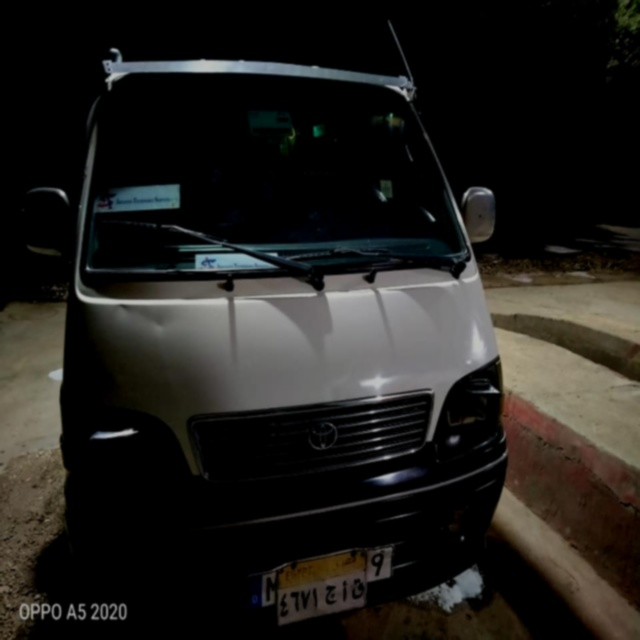License Plate: (276, 549, 369, 628)
